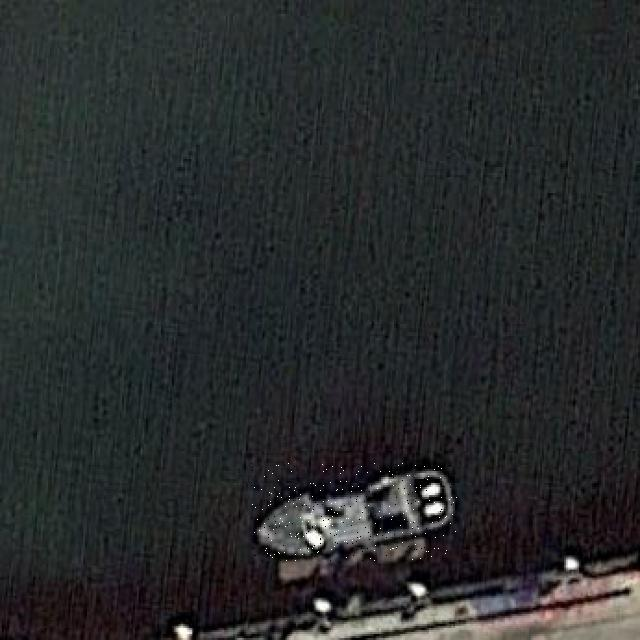boat: (251, 463, 457, 561)
